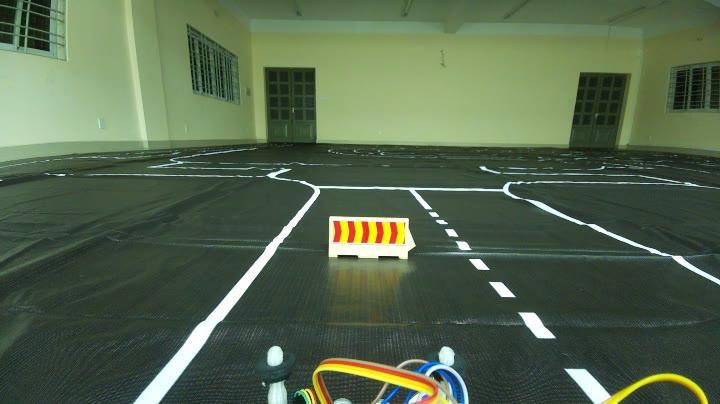roadblock: (322, 204, 428, 280)
